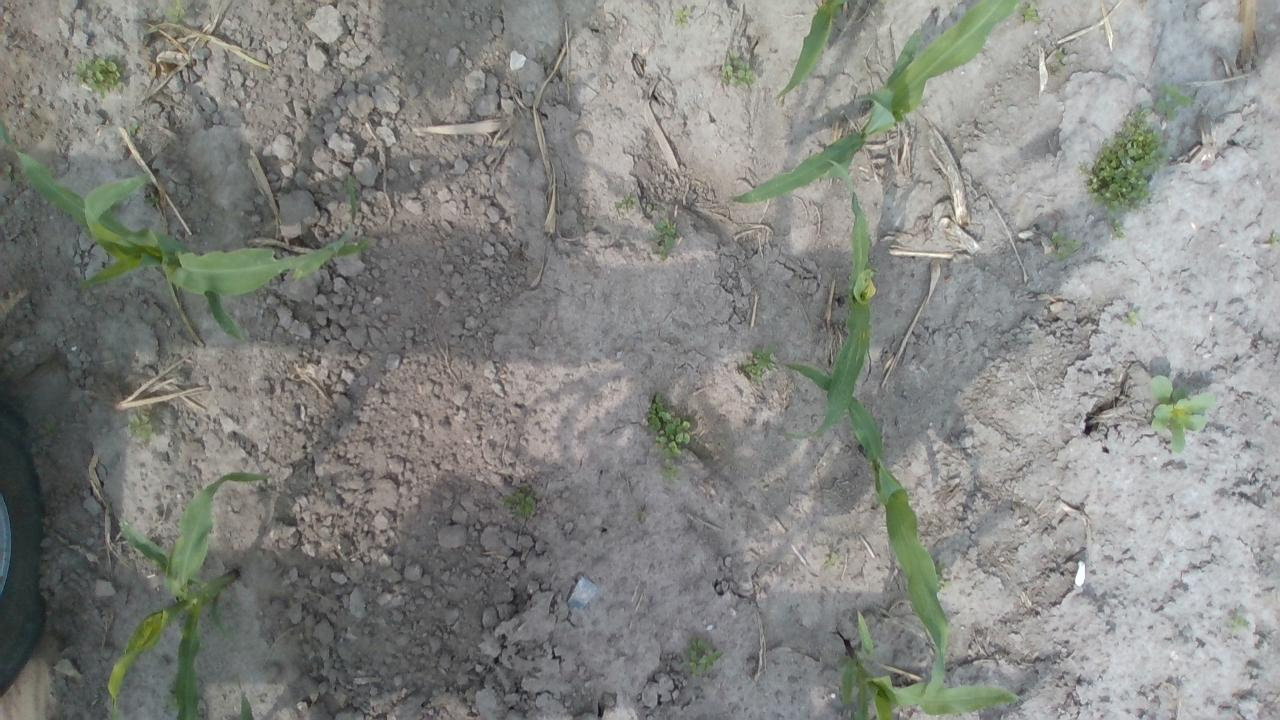Maize: (0, 120, 372, 344), (779, 360, 954, 718), (727, 1, 1026, 208), (108, 468, 274, 717), (780, 154, 880, 442), (833, 605, 1025, 720), (770, 2, 851, 103)
Weeds: (1080, 88, 1198, 212), (1148, 370, 1213, 454), (648, 391, 694, 476), (77, 55, 126, 93), (685, 638, 722, 676), (722, 50, 754, 90), (26, 415, 62, 448), (502, 490, 536, 522), (744, 344, 773, 379), (1048, 234, 1080, 261), (656, 220, 678, 256), (127, 412, 153, 440), (1048, 46, 1071, 70), (1107, 214, 1126, 240), (1228, 614, 1252, 633), (672, 6, 694, 26), (820, 551, 839, 574), (162, 5, 184, 23), (617, 197, 637, 211), (1022, 5, 1039, 20), (1128, 311, 1142, 326), (1270, 232, 1280, 250)
